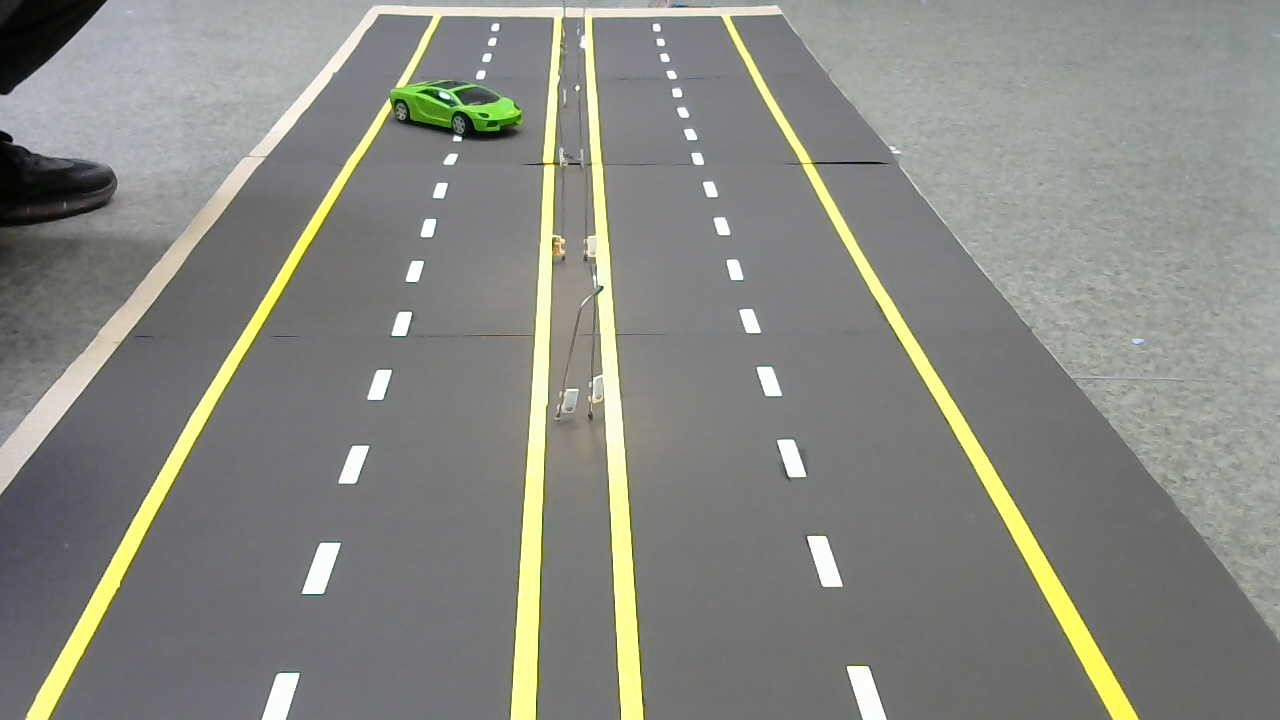overturn_car: (385, 71, 525, 146)
